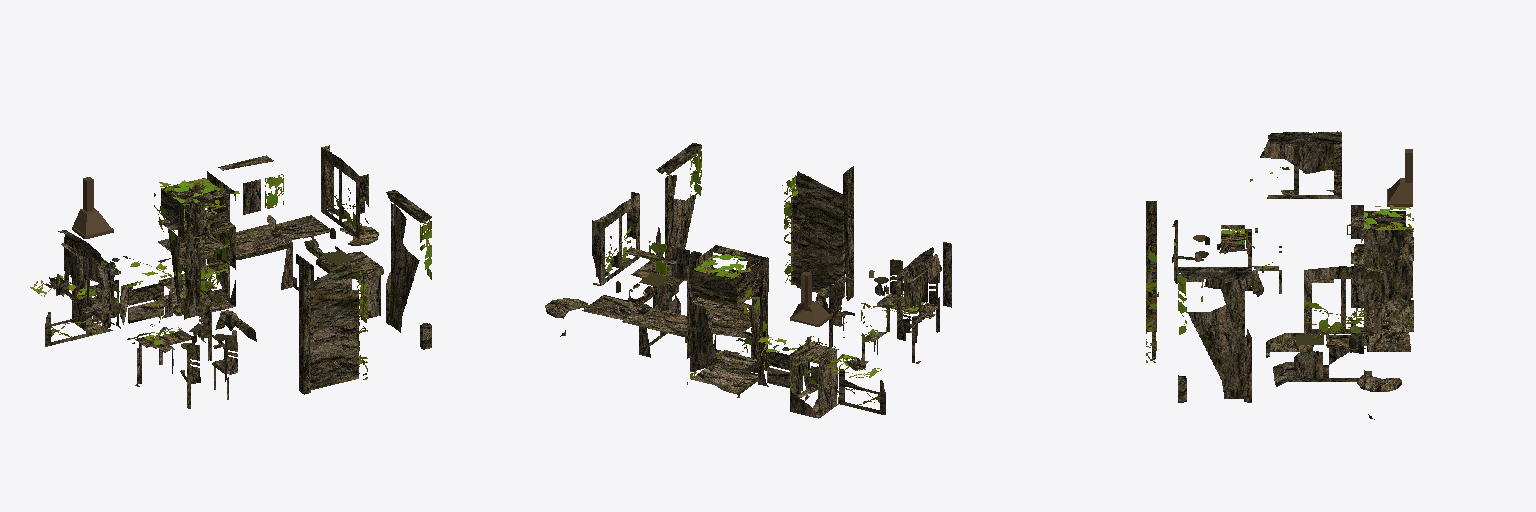
The picture shows the model from 3 angles: view 1: azimuth 30°, elevation 25°; view 2: azimuth 150°, elevation 25°; view 3: azimuth 270°, elevation 25°; orthographic projection.
Visible parts, largest first — view 1: Fridge_Cube; view 2: Fridge_Cube; view 3: Fridge_Cube.
Boxes of the visible parts, <box> form: Fridge_Cube: <box>30,145,431,408</box>; Fridge_Cube: <box>545,143,951,418</box>; Fridge_Cube: <box>1146,131,1413,419</box>.
Size of the model in its own units: 58.15 by 28 by 39.77.
1 materials, 1 textured.